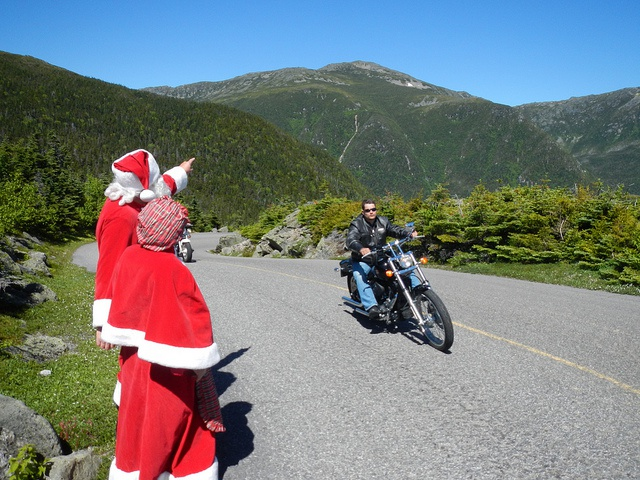non-vehicle: (331, 224, 457, 352), (174, 225, 190, 264)
